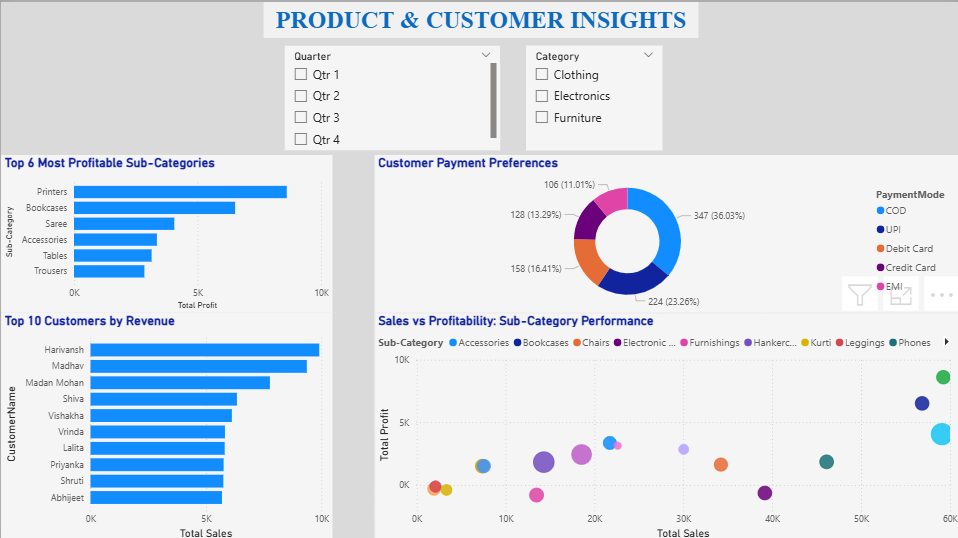

This screenshot's page, from the dashboard's own definition file:
{"tool":"powerbi","page":{"name":"Product & Customer Insights","canvas":[1280,720],"ordinal":1},"visuals":[{"type":"clusteredBarChart","title":"Top 10 Customers by Revenue","fields":{"Category":["Orders.CustomerName"],"Y":["Details.Total Sales"]},"box":[0,414,442,306],"z":0},{"type":"clusteredBarChart","title":"Top 6 Most Profitable Sub-Categories","fields":{"Category":["Details.Sub-Category"],"Y":["Details.Total Profit"]},"box":[0,203.3,441.7,210],"z":1000},{"type":"scatterChart","title":"Sales vs Profitability: Sub-Category Performance","fields":{"X":["Details.Total Sales"],"Y":["Details.Total Profit"],"Series":["Details.Sub-Category"],"Size":["Details.Total Quantity"]},"box":[498,414,782,306],"z":2000},{"type":"donutChart","title":"Customer Payment Preferences","fields":{"Category":["Details.PaymentMode"],"Y":["Details.Payment Mode Orders"]},"box":[498.3,203.3,781.7,210],"z":3000},{"type":"textbox","box":[350,0,580,48],"z":4000},{"type":"slicer","fields":{"Values":["Orders.Order Date.Variation.Date Hierarchy.Quarter"]},"box":[377.5,57.5,287.5,140],"z":5000},{"type":"slicer","fields":{"Values":["Details.Category"]},"box":[700,57.8,182.2,140],"z":6000}]}

Visuals, with their boxes in screenshot pixels (x1, y1, x2, y2), scaled from the page's 1280x720 canvas onto the 958x538 screenshot:
"Top 10 Customers by Revenue" clusteredBarChart: 0,309,331,537
"Top 6 Most Profitable Sub-Categories" clusteredBarChart: 0,152,331,309
"Sales vs Profitability: Sub-Category Performance" scatterChart: 373,309,957,537
"Customer Payment Preferences" donutChart: 373,152,957,309
textbox: 262,0,696,36
slicer - Orders.Order Date.Variation.Date Hierarchy.Quarter: 283,43,498,148
slicer - Details.Category: 524,43,660,148
